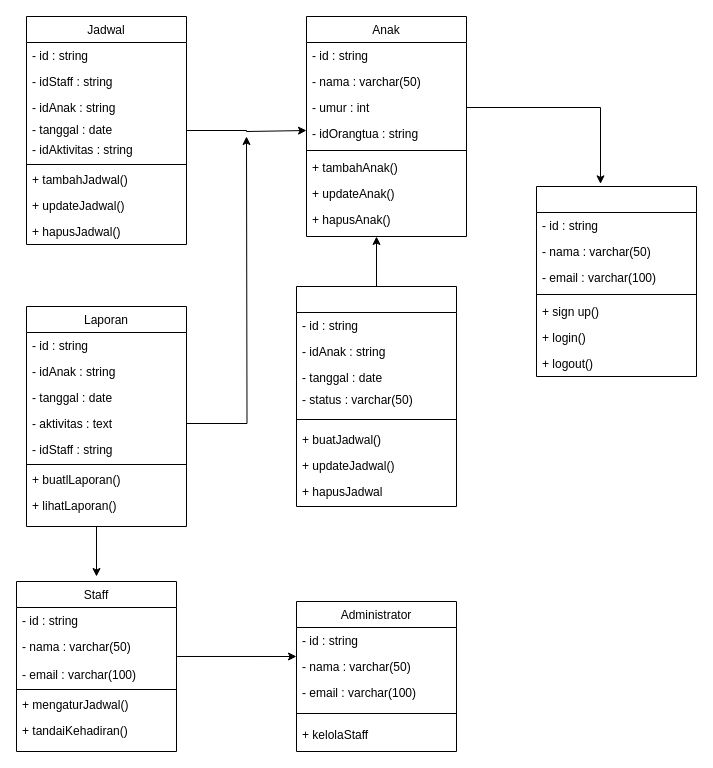
Image size: 713x768. Some labels were removed from this diagram. The shapes that lost their labels are listed below. From the top down, each one's box as (x1, y1, x2, y2) in pixels, then its label:
(536, 186, 696, 376): Orangtua
(296, 286, 456, 506): Kehadiran
